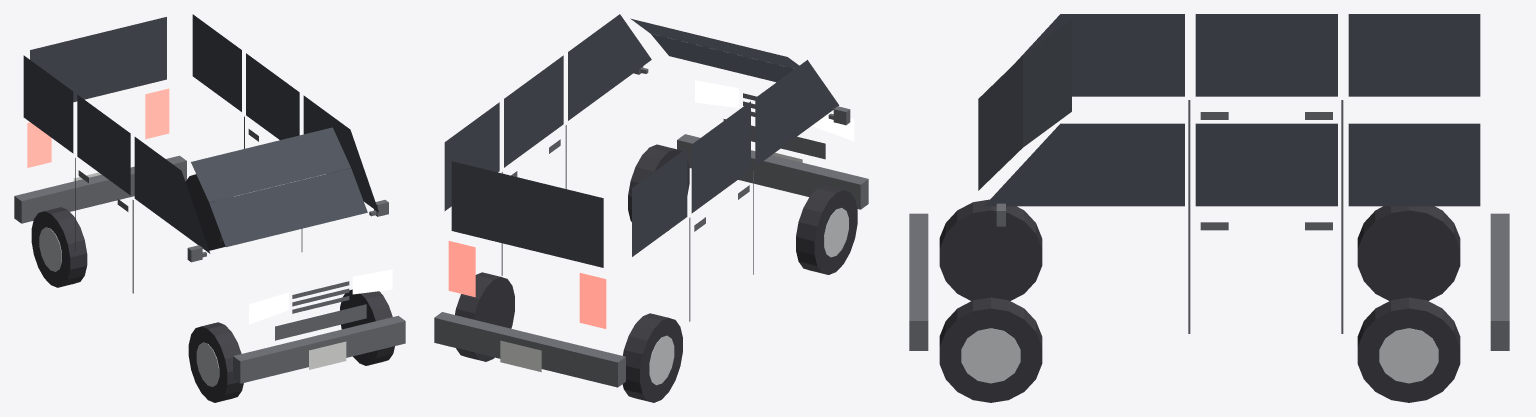
The model's file is keivan_fixed.glb.
3 renders of one model, left to right at view 1: azimuth 30°, elevation 25°; view 2: azimuth 150°, elevation 25°; view 3: azimuth 270°, elevation 25°, orthographic. The views are drawn at different scales.
Parts seen in each view (by area): view 1: glass, trim, tire, taillight, light, rim, plate; view 2: glass, trim, tire, taillight, rim, light, plate; view 3: glass, tire, trim, rim.
Part boxes in pixels (box(x1,y1,x2,y2)): glass: box(23, 14, 378, 253); trim: box(14, 116, 405, 383); tire: box(31, 174, 394, 402); taillight: box(27, 88, 169, 167); light: box(249, 269, 392, 324); rim: box(39, 227, 219, 386); plate: box(73, 172, 346, 369); glass: box(444, 14, 839, 267); trim: box(434, 66, 868, 387); tire: box(455, 144, 857, 402); taillight: box(448, 241, 606, 328); rim: box(649, 208, 848, 385); light: box(695, 80, 854, 140); plate: box(500, 152, 802, 372); glass: box(978, 14, 1480, 206); tire: box(939, 199, 1460, 402); trim: box(909, 100, 1509, 350); rim: box(961, 328, 1438, 383).
Size of the model in its own units: 1.75 by 1.79 by 3.6.
